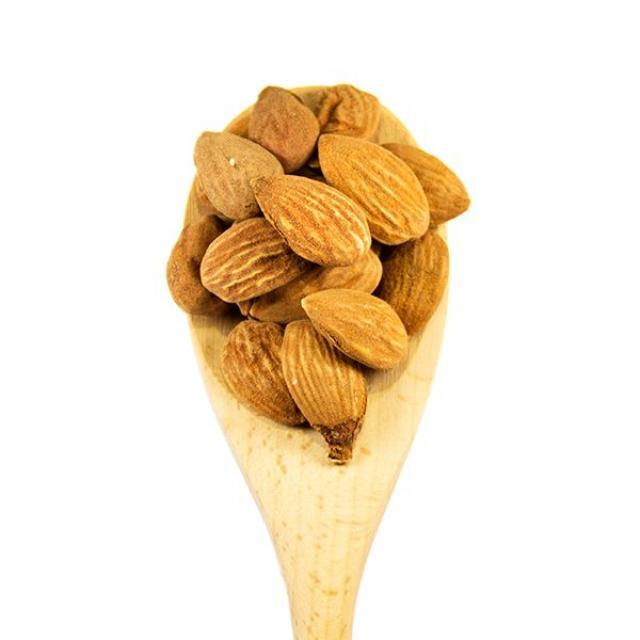Frutta secca: (152, 78, 471, 472)
